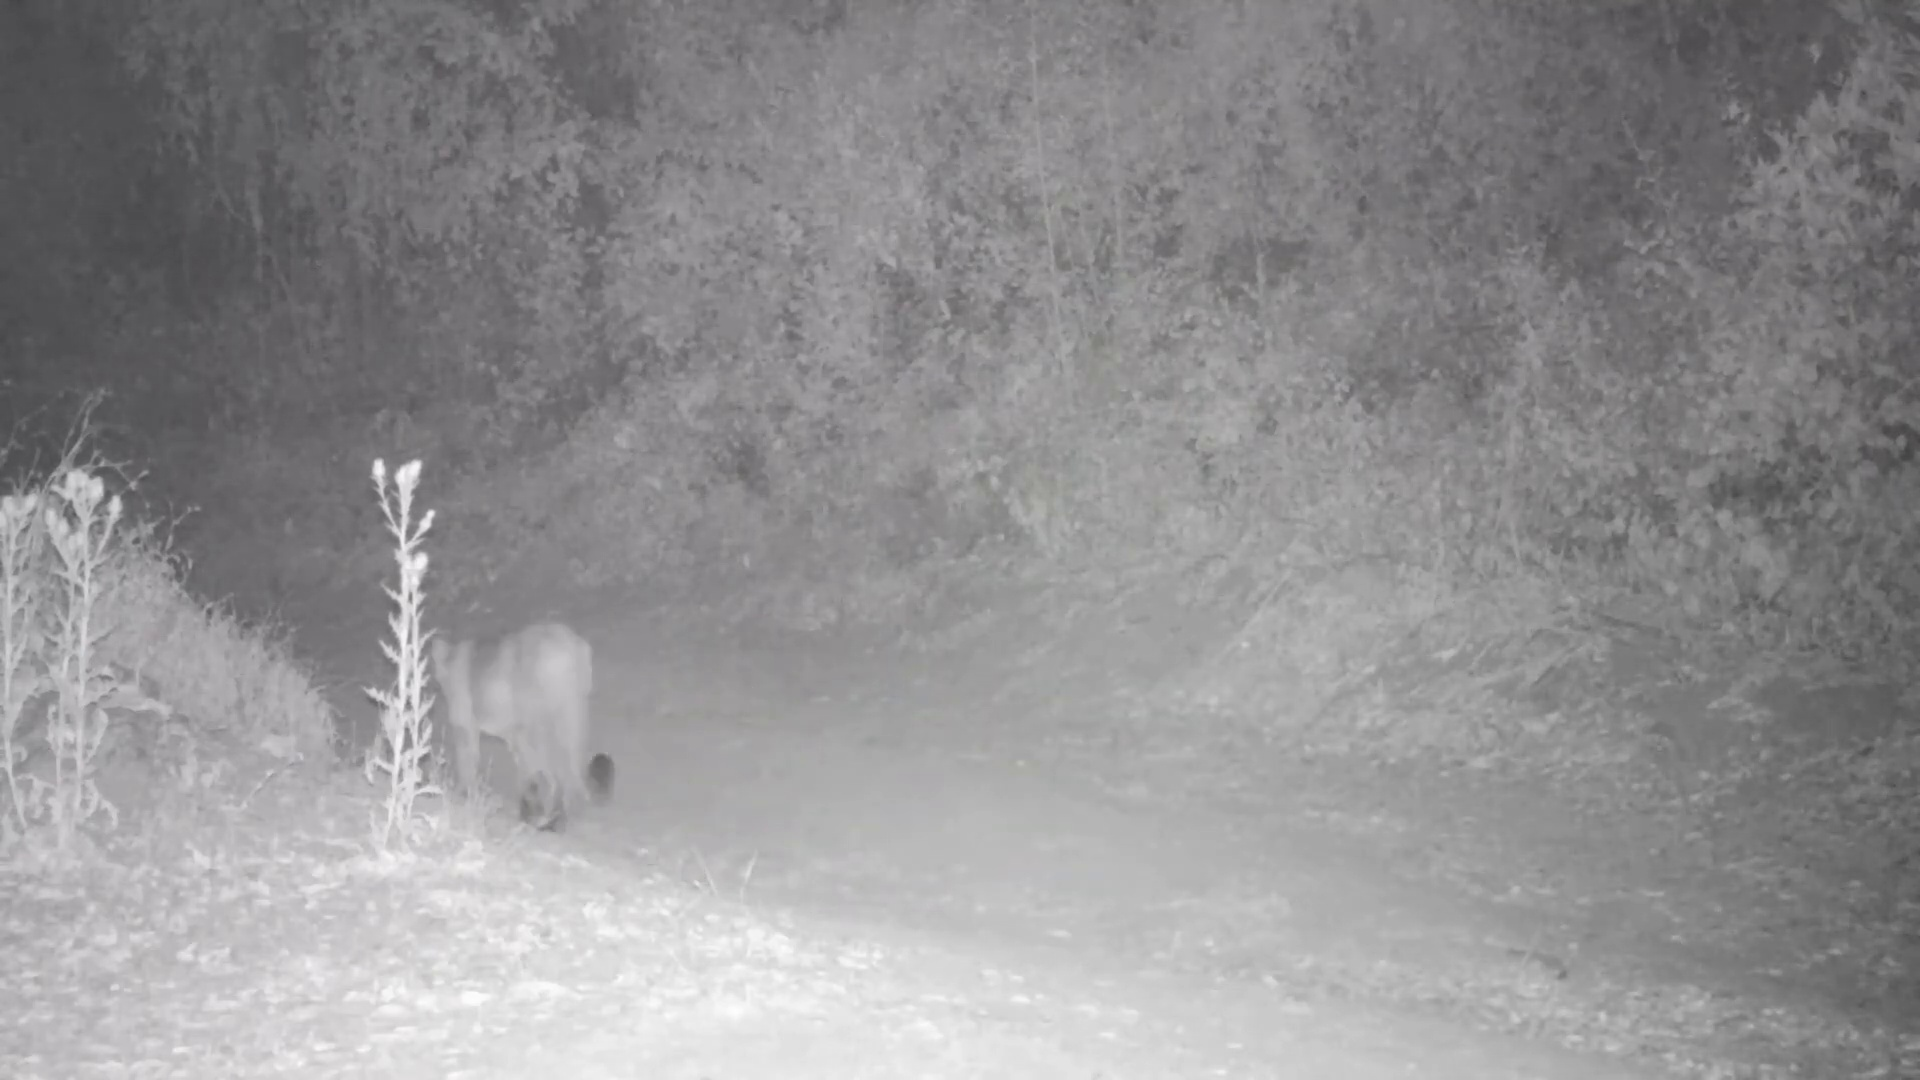Lion: (423, 618, 616, 833)
